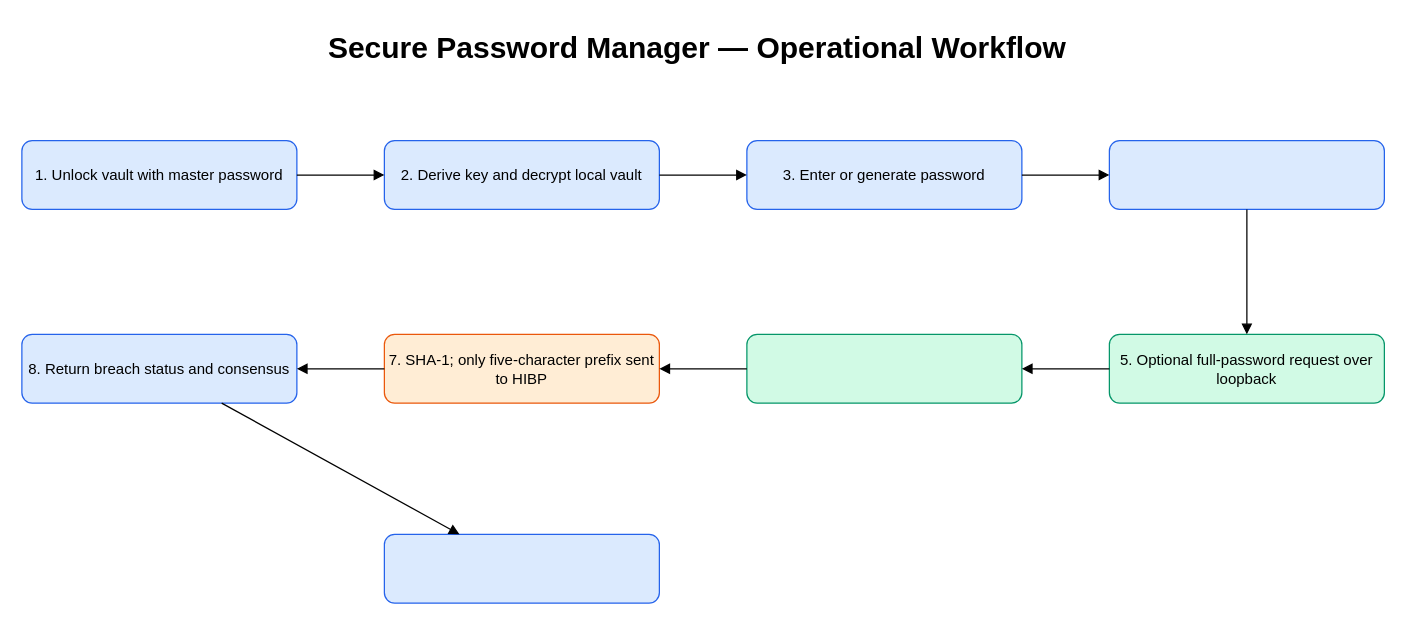
The diagram is 1406 pixels wide and 625 high, and some of its shapes have lost their labels. Here are the shapes that lost their labels. From the top down, the centre of each, then its label:
(x=1246, y=174): 4. Browser runs rule meter and zxcvbn
(x=884, y=368): 6. Flask extracts features and predicts strength
(x=521, y=568): 9. Render result and recommendations when needed
